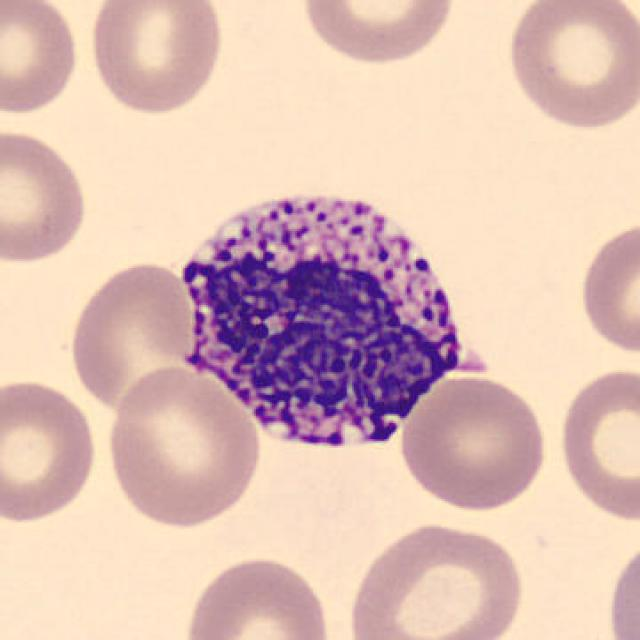Basophil: (163, 169, 489, 473)
RBC: (101, 361, 265, 531), (341, 518, 530, 640), (397, 370, 551, 515), (64, 258, 199, 414), (502, 0, 638, 134), (83, 0, 227, 116), (0, 373, 101, 527), (553, 362, 638, 526), (180, 552, 336, 640), (0, 125, 92, 268), (297, 0, 459, 69), (0, 0, 84, 118), (574, 213, 640, 360), (604, 530, 639, 640)
